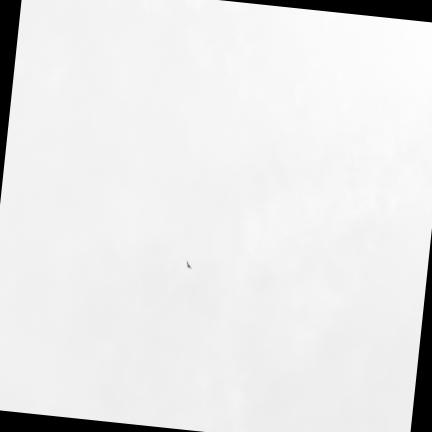Shahed: (186, 260, 191, 268)
